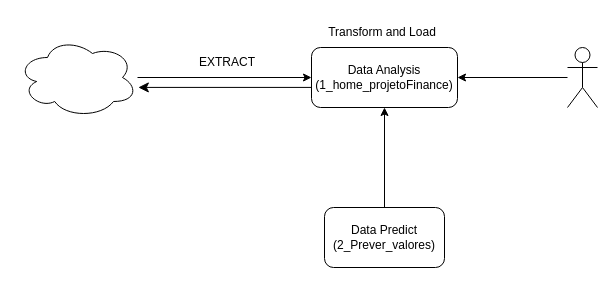
The diagram is 615 pixels wide and 285 high, and some of its shapes have lost their labels. The box of each missing label's shape, as (x1, y1, x2, y2) in pixels:
User: (566, 46, 598, 108)
YFinance (data): (16, 36, 138, 118)
